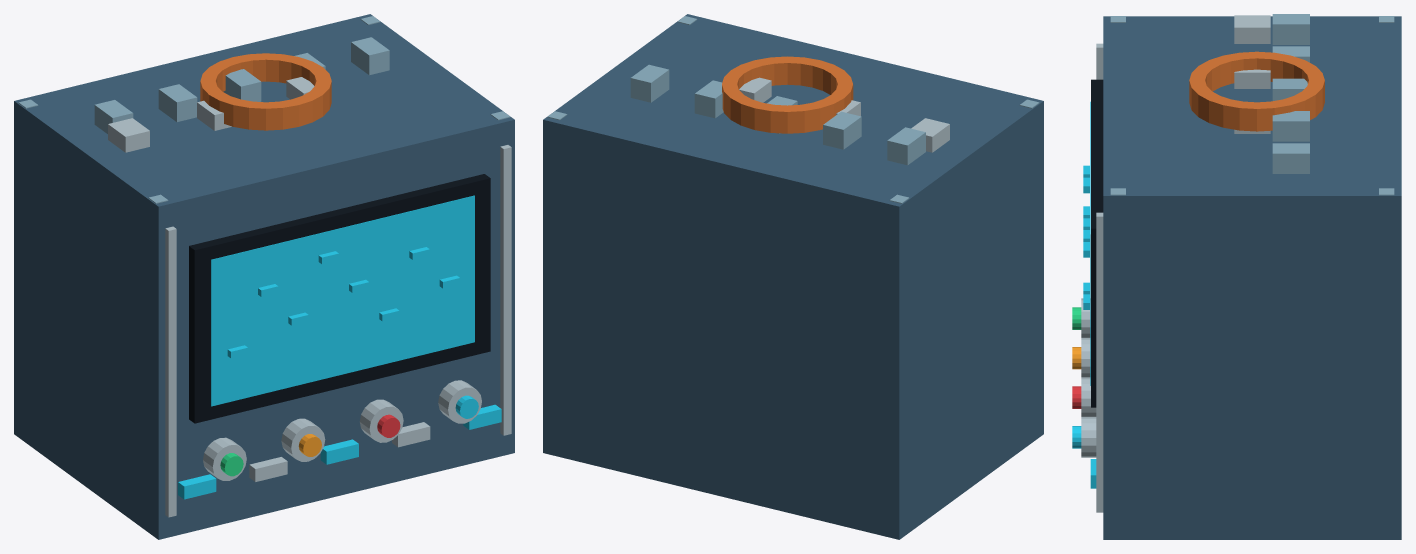
The model's file is 46_L72_VacuumPressurePIDController.fbx.
The picture shows the model from 3 angles, left to right: view 1: azimuth 30°, elevation 25°; view 2: azimuth 150°, elevation 25°; view 3: azimuth 270°, elevation 25°; orthographic projection. The views are drawn at different scales.
Parts seen in each view (by area): view 1: VacuumPressurePIDController; view 2: VacuumPressurePIDController; view 3: VacuumPressurePIDController.
Boxes of the visible parts, x1=… form: VacuumPressurePIDController: x1=14, y1=14, x2=514, y2=539; VacuumPressurePIDController: x1=543, y1=14, x2=1043, y2=539; VacuumPressurePIDController: x1=1072, y1=14, x2=1401, y2=539.
Bounding box in the file's own units: 94 × 90.75 × 72.89.
